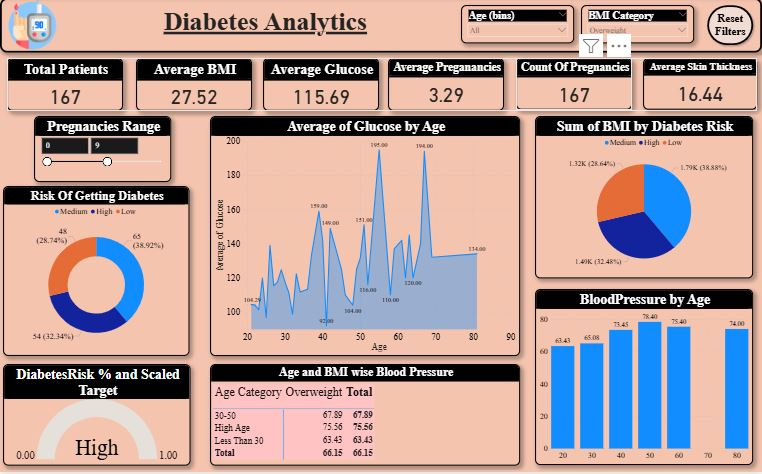

Layout of this report page (visuals, bound fields, positions):
{"tool":"powerbi","page":{"name":"Page 1","canvas":[2120,1320],"ordinal":0},"visuals":[{"type":"slicer","fields":{"Values":["diabetes new.Age (bins)"]},"box":[1283.2,19.8,314.9,106.6],"z":0,"group":"g1"},{"type":"pieChart","fields":{"Category":["diabetes new.Diabetes Risk"],"Y":["Sum(diabetes new.BMI)"]},"box":[1487.2,329.5,606.6,452],"z":0},{"type":"slicer","fields":{"Values":["diabetes new.BMI Category"]},"box":[1617.9,19.8,314.9,106.6],"z":1000,"group":"g1"},{"type":"gauge","fields":{"Y":["diabetes new.DiabetesRisk %"],"TargetValue":["diabetes new.Scaled Target"]},"box":[8.7,1017.7,522,282.9],"z":1000},{"type":"image","box":[0.4,0,179.3,148.1],"z":2000,"group":"g1"},{"type":"card","title":"Average Glucose","fields":{"Values":["Avg(diabetes new.Glucose)"]},"box":[731.6,167.2,323,146.6],"z":2000,"group":"g2"},{"type":"lineChart","fields":{"Category":["diabetes new.Age"],"Y":["Avg(diabetes new.Glucose)"]},"box":[583.2,329.5,863.2,667.8],"z":2000},{"type":"card","title":"Average BMI","fields":{"Values":["Avg(diabetes new.BMI)"]},"box":[376.3,167.2,323,146.6],"z":3000,"group":"g2"},{"type":"clusteredColumnChart","title":"BloodPressure by Age","fields":{"Category":["diabetes new.Age (bins)"],"Y":["Avg(diabetes new.BloodPressure (mg/dL))"]},"box":[1487.2,810.7,606.6,489.9],"z":3000},{"type":"slicer","title":"Pregnancies Range","fields":{"Values":["diabetes new.Pregnancies"]},"box":[93.3,329.5,382,183.7],"z":4000},{"type":"textbox","box":[0,0,2120,151.6],"z":5000},{"type":"donutChart","title":"Risk Of Getting Diabetes","fields":{"Y":["diabetes new.PatientCounts"],"Category":["diabetes new.Diabetes Risk"]},"box":[8.5,524.4,518.7,473.1],"z":6000},{"type":"group","id":"g1","title":"Group 1","box":[0.4,0,2105,148.1],"z":7000},{"type":"pivotTable","title":"Age and BMI wise Blood Pressure","fields":{"Rows":["diabetes new.Age Category"],"Columns":["diabetes new.BMI Category"],"Values":["Avg(diabetes new.BloodPressure (mg/dL))"]},"box":[583.2,1017.7,863.2,282.9],"z":8000},{"type":"group","id":"g2","title":"Group 2","box":[18.6,167.2,2086.8,146.6],"z":9000},{"type":"card","title":"Average Preganancies","fields":{"Values":["Avg(diabetes new.Pregnancies)"]},"box":[1079.4,167.2,323,146.6],"z":11000,"group":"g2"},{"type":"actionButton","box":[1959.6,9.9,145.9,128.9],"z":11002,"group":"g1"},{"type":"card","title":"Count Of Pregnancies","fields":{"Values":["CountNonNull(diabetes new.Pregnancies)"]},"box":[1434.6,167.2,323,144.1],"z":12000,"group":"g2"},{"type":"card","title":"Average Skin Thickness","fields":{"Values":["Avg(diabetes new.SkinThickness)"]},"box":[1787.4,167.2,318,144.1],"z":13000,"group":"g2"},{"type":"card","title":"Total Patients","fields":{"Values":["diabetes new.PatientCounts"]},"box":[18.6,167.2,323,146.6],"z":14000,"group":"g2"}]}

Visuals, with their boxes in screenshot pixels (x1, y1, x2, y2), scaled from the page's 2120x1320 canvas onto the 762x474 screenshot:
slicer - diabetes new.Age (bins): x1=461 y1=7 x2=574 y2=45
pieChart - diabetes new.Diabetes Risk x Sum(diabetes new.BMI): x1=535 y1=118 x2=753 y2=281
slicer - diabetes new.BMI Category: x1=582 y1=7 x2=695 y2=45
gauge - diabetes new.DiabetesRisk % x diabetes new.Scaled Target: x1=3 y1=365 x2=191 y2=467
image: x1=0 y1=0 x2=65 y2=53
"Average Glucose" card: x1=263 y1=60 x2=379 y2=113
lineChart - diabetes new.Age x Avg(diabetes new.Glucose): x1=210 y1=118 x2=520 y2=358
"Average BMI" card: x1=135 y1=60 x2=251 y2=113
"BloodPressure by Age" clusteredColumnChart: x1=535 y1=291 x2=753 y2=467
"Pregnancies Range" slicer: x1=34 y1=118 x2=171 y2=184
textbox: x1=0 y1=0 x2=761 y2=54
"Risk Of Getting Diabetes" donutChart: x1=3 y1=188 x2=189 y2=358
"Group 1" group: x1=0 y1=0 x2=757 y2=53
"Age and BMI wise Blood Pressure" pivotTable: x1=210 y1=365 x2=520 y2=467
"Group 2" group: x1=7 y1=60 x2=757 y2=113
"Average Preganancies" card: x1=388 y1=60 x2=504 y2=113
actionButton: x1=704 y1=4 x2=757 y2=50
"Count Of Pregnancies" card: x1=516 y1=60 x2=632 y2=112
"Average Skin Thickness" card: x1=642 y1=60 x2=757 y2=112
"Total Patients" card: x1=7 y1=60 x2=123 y2=113
